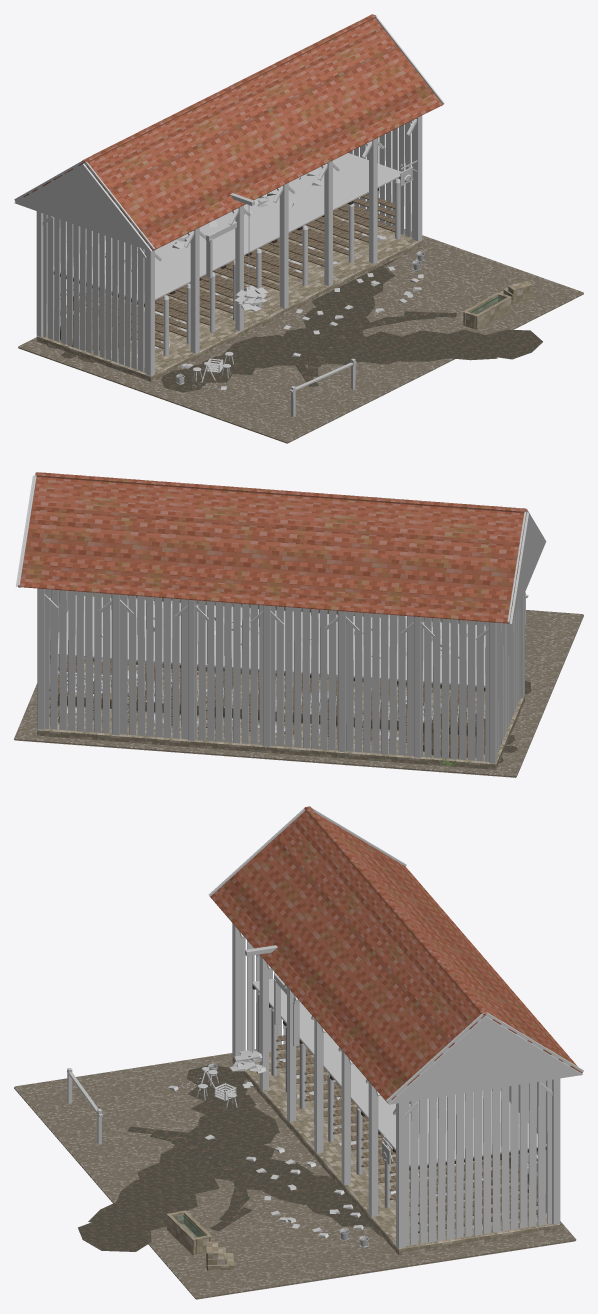
File: stables.gltf
The picture shows the model from 3 angles, top to bottom: view 1: azimuth 30°, elevation 25°; view 2: azimuth 150°, elevation 25°; view 3: azimuth 270°, elevation 25°; orthographic projection. The views are drawn at different scales.
Visible parts, largest first — view 1: stables#n1_n1, stables#0_0, stables#n1_0, stables#0_n1; view 2: stables#n1_n1, stables#0_0, stables#0_n1; view 3: stables#n1_n1, stables#0_0, stables#n1_0, stables#0_n1.
Boxes of the visible parts, x1,y1,x2,y2 form: stables#n1_n1: (14,14,444,381); stables#0_0: (18,220,583,443); stables#n1_0: (161,193,356,417); stables#0_n1: (257,160,424,364); stables#n1_n1: (15,472,546,769); stables#0_0: (14,591,583,777); stables#0_n1: (50,600,285,723); stables#n1_n1: (208,806,583,1255); stables#0_0: (14,1049,576,1299); stables#n1_0: (67,945,299,1178); stables#0_n1: (169,1096,546,1248).
Bounding box in the file's own units: 20.14 × 8.36 × 17.99.
